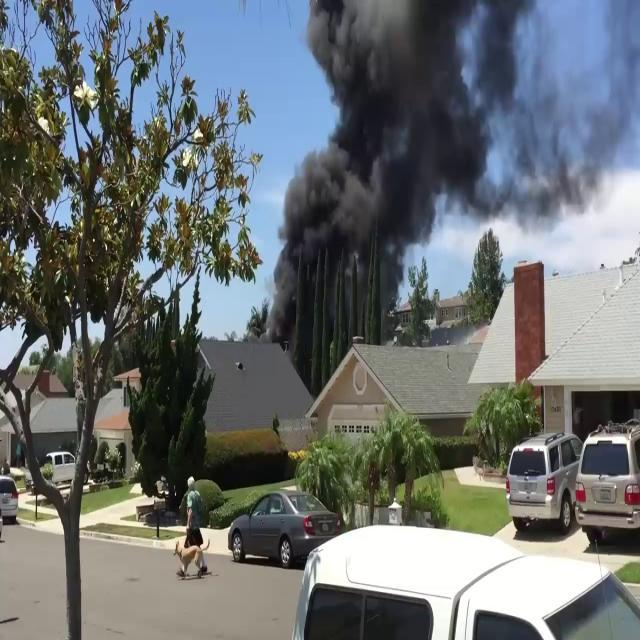Smoke: (271, 1, 515, 346), (487, 0, 640, 232)
